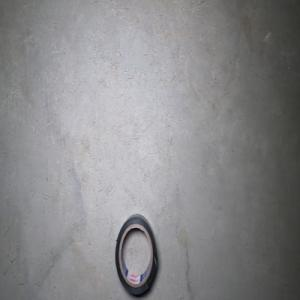Tape: (115, 213, 157, 297)
